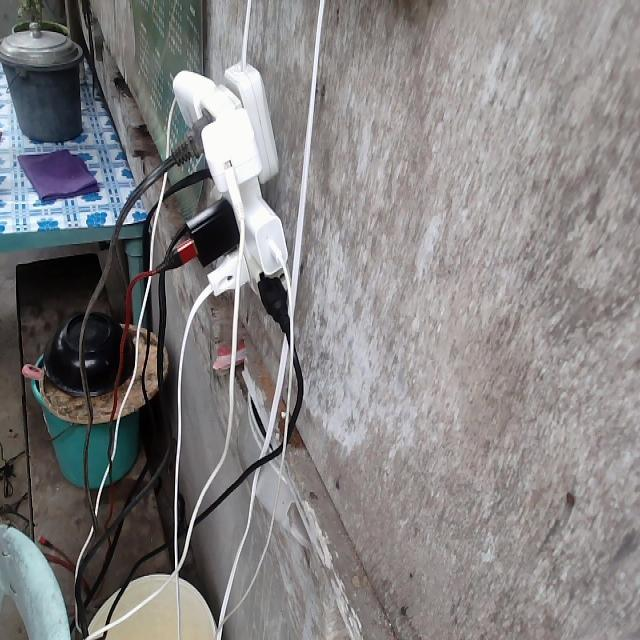-: (150, 57, 295, 340)
